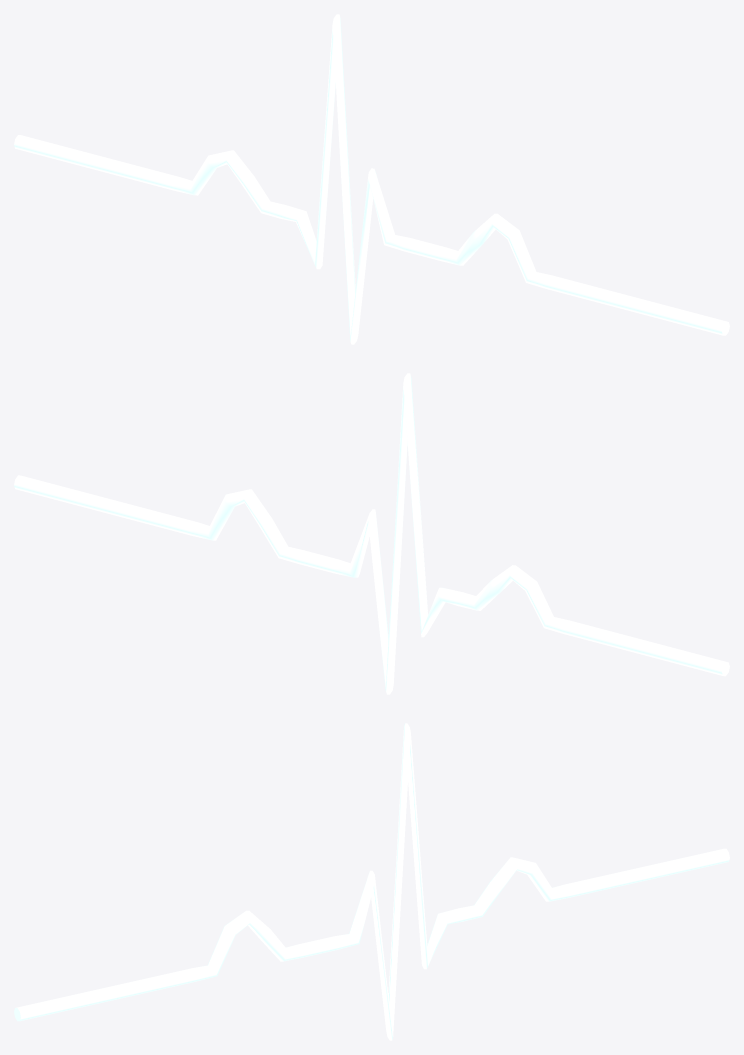
Rendered from BraunPulse.fbx.
3 renders of one model, top to bottom at view 1: azimuth 30°, elevation 25°; view 2: azimuth 210°, elevation 25°; view 3: azimuth 270°, elevation 25°, orthographic. The views are drawn at different scales.
Parts seen in each view (by area): view 1: BraunPulse; view 2: BraunPulse; view 3: BraunPulse.
Part boxes in pixels (x1,y1,x2,y2): BraunPulse: [14, 14, 729, 344]; BraunPulse: [14, 373, 729, 694]; BraunPulse: [14, 723, 729, 1040].
Bounding box in the file's own units: 11.66 × 10.34 × 21.4.
